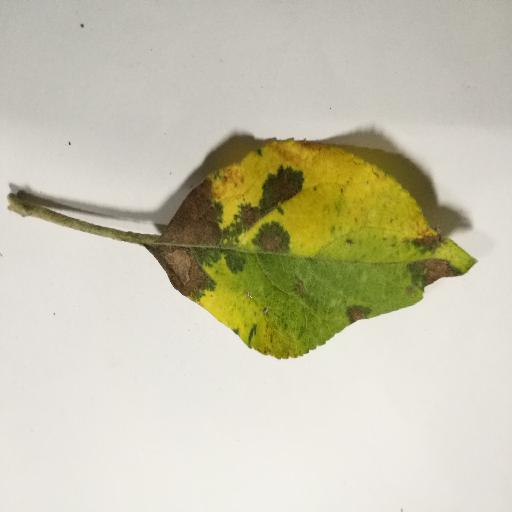Brown_Spot: (141, 180, 224, 313), (223, 164, 316, 253), (398, 217, 450, 289), (339, 307, 375, 330)
